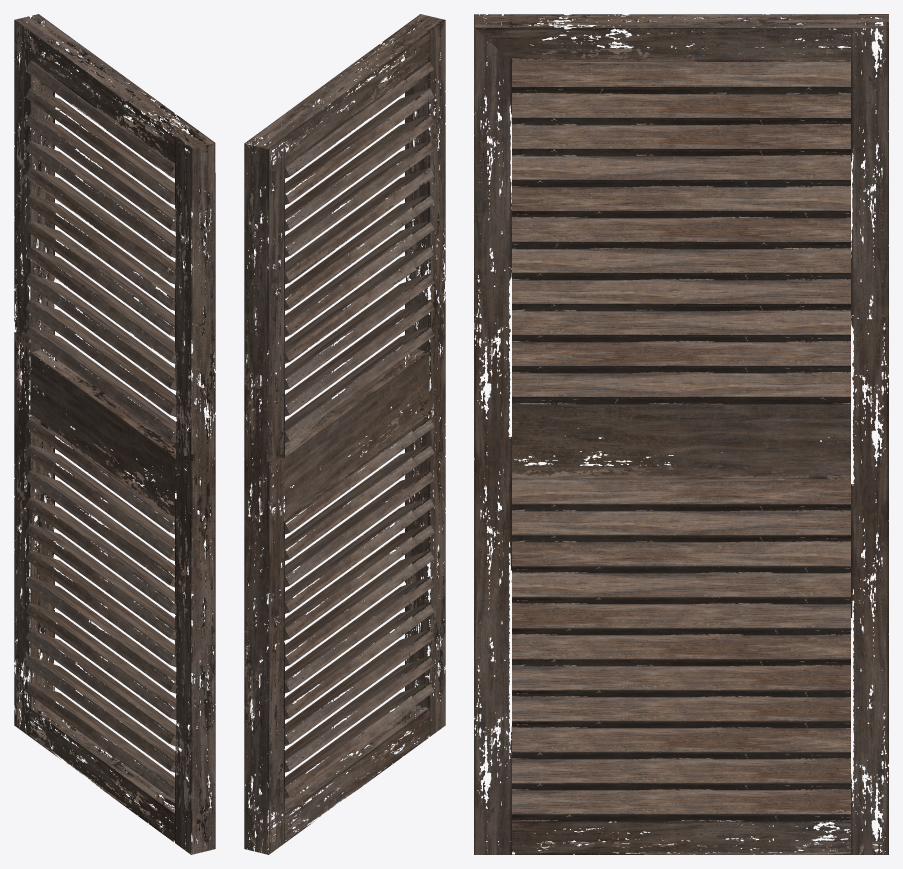
The model's file is SM_shutter_01.fbx.
3 views of the same model, side by side, from view 1: azimuth 30°, elevation 25°; view 2: azimuth 150°, elevation 25°; view 3: azimuth 270°, elevation 25° (orthographic). The views are drawn at different scales.
Visible parts, largest first — view 1: SM_shutter_01_LOD0; view 2: SM_shutter_01_LOD0; view 3: SM_shutter_01_LOD0.
Part boxes in pixels (left/top/right/bottom): SM_shutter_01_LOD0: left=14, top=14, right=215, bottom=854; SM_shutter_01_LOD0: left=244, top=14, right=445, bottom=854; SM_shutter_01_LOD0: left=474, top=14, right=888, bottom=854.
Bounding box in the file's own units: 11.29 × 100 × 220.
1 material, 1 textured.
